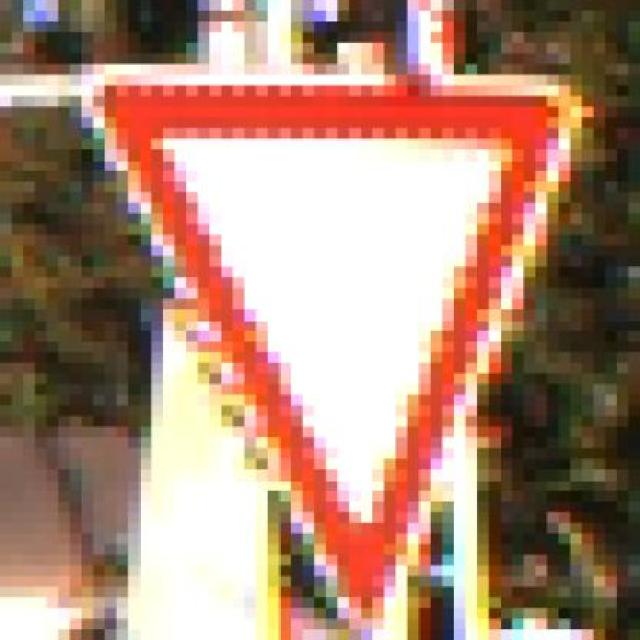Give Way: (70, 53, 605, 630)
